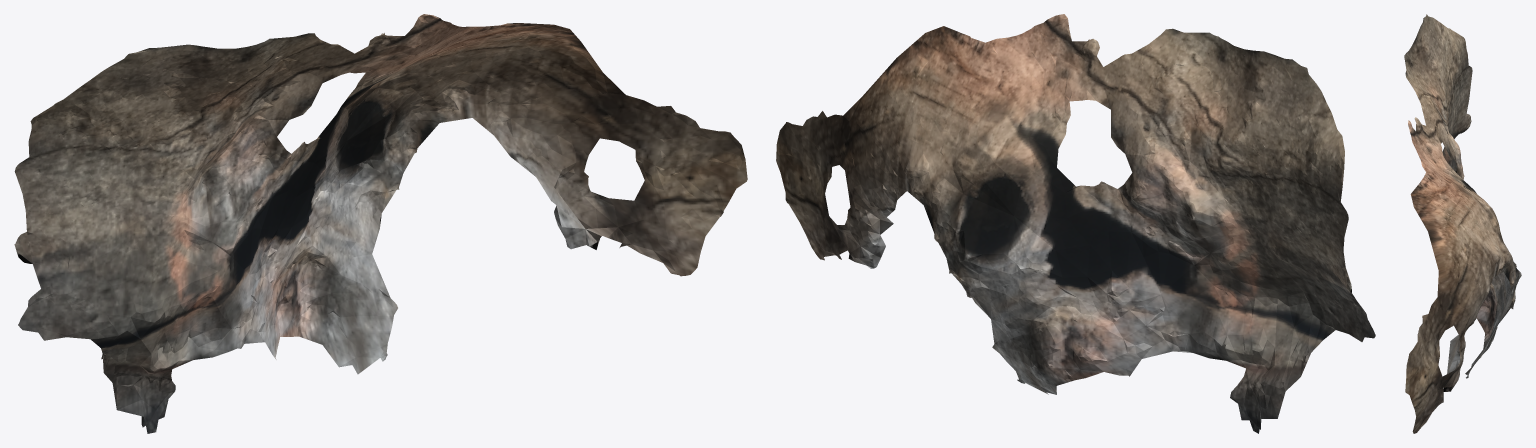
The picture shows the model from 3 angles, left to right: view 1: azimuth 30°, elevation 25°; view 2: azimuth 150°, elevation 25°; view 3: azimuth 270°, elevation 25°; orthographic projection. The views are drawn at different scales.
Parts seen in each view (by area): view 1: TexturedMesh; view 2: TexturedMesh; view 3: TexturedMesh.
Part boxes in pixels (x1,y1,x2,y2): TexturedMesh: [14, 14, 747, 433]; TexturedMesh: [776, 14, 1375, 433]; TexturedMesh: [1404, 14, 1521, 433].
Size of the model in its own units: 2.24 by 1.25 by 0.482.
Materials: 1 (1 with a texture image).
